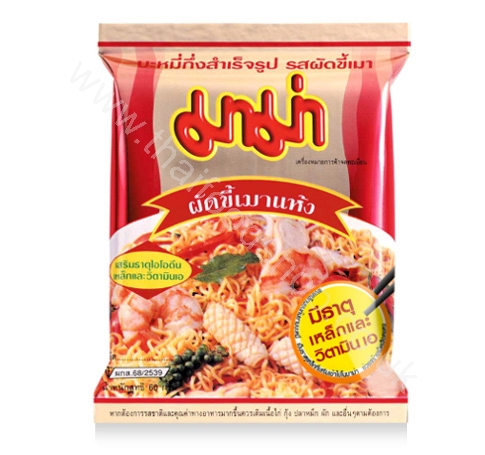Snack: (88, 18, 417, 437)
